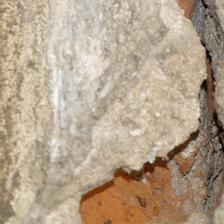Crack: (41, 19, 180, 184)
